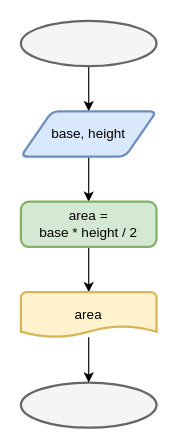
This 176x447 diagram has some shape labels left out. Each missing label, with the box of its shape:
시작: (19, 19, 157, 67)
종료: (19, 381, 157, 428)
